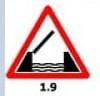road_sign: (7, 6, 88, 77)
